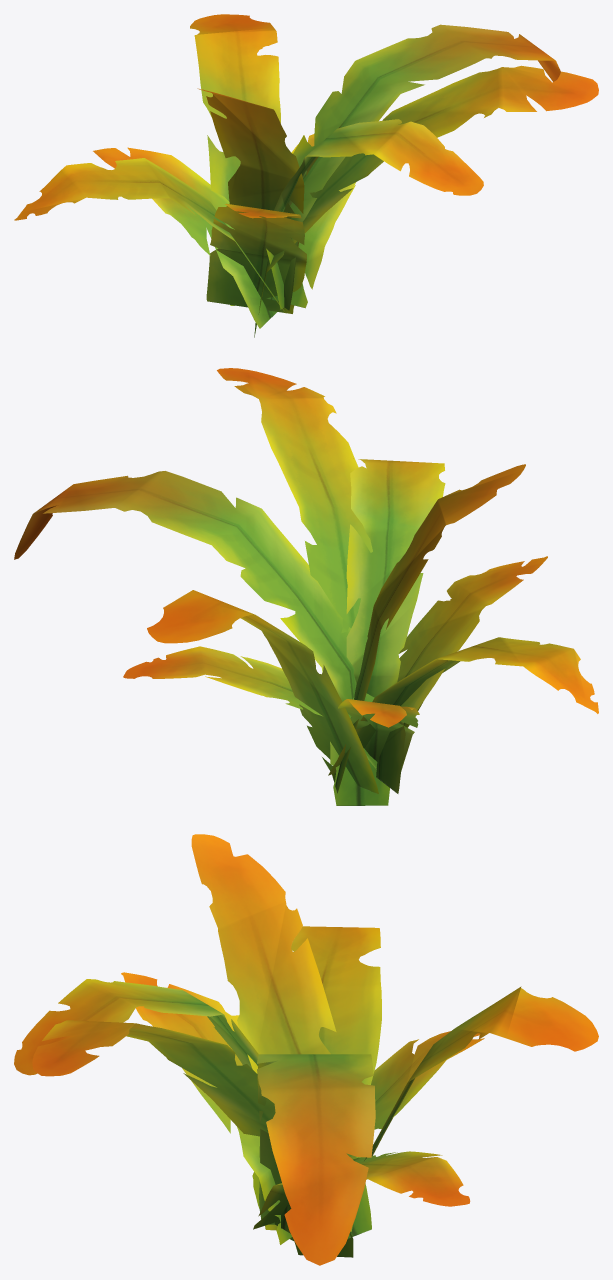
File: Plant.fbx
3 views of the same model, one above another, from view 1: azimuth 30°, elevation 25°; view 2: azimuth 150°, elevation 25°; view 3: azimuth 270°, elevation 25° (orthographic). The views are drawn at different scales.
Visible parts, largest first — view 1: polySurface13; view 2: polySurface13; view 3: polySurface13.
Part boxes in pixels (box(x1,y1,x2,y2)): polySurface13: box(14, 14, 598, 337); polySurface13: box(14, 368, 598, 805); polySurface13: box(14, 834, 598, 1265).
Bounding box in the file's own units: 40.39 × 21.27 × 30.46.
1 material, 1 textured.
